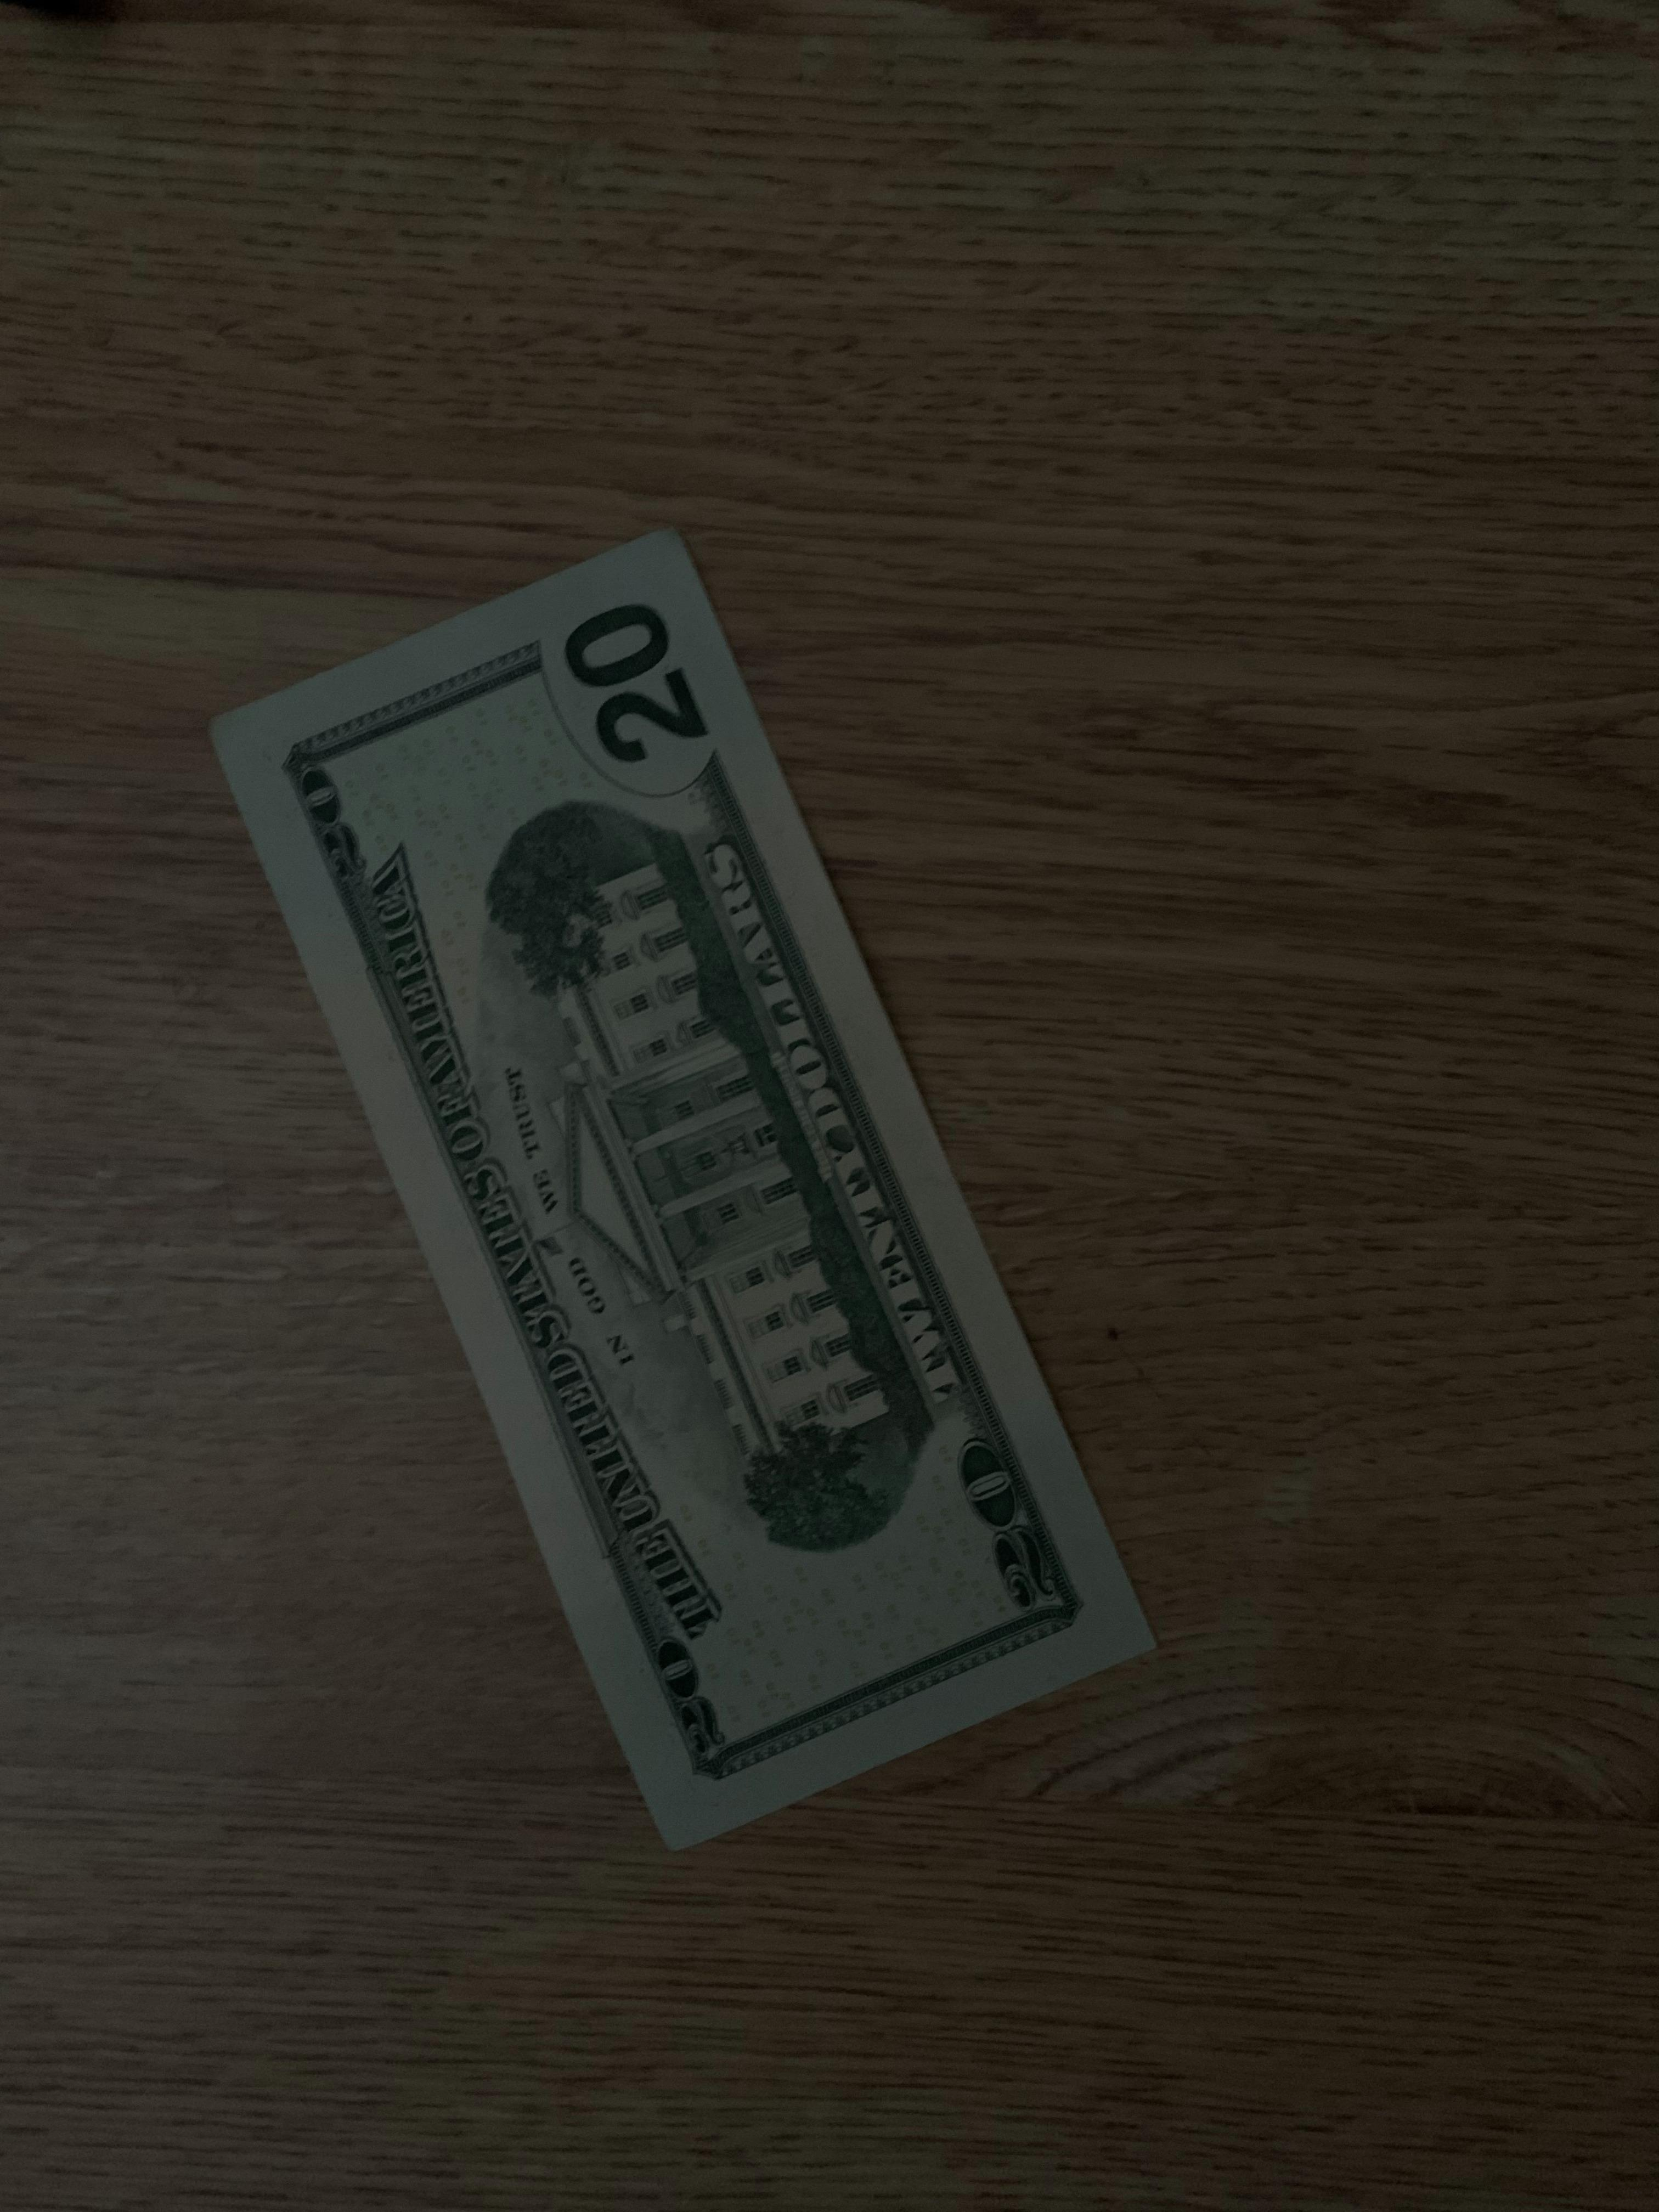TwentyBill: (221, 516, 1178, 1850)
